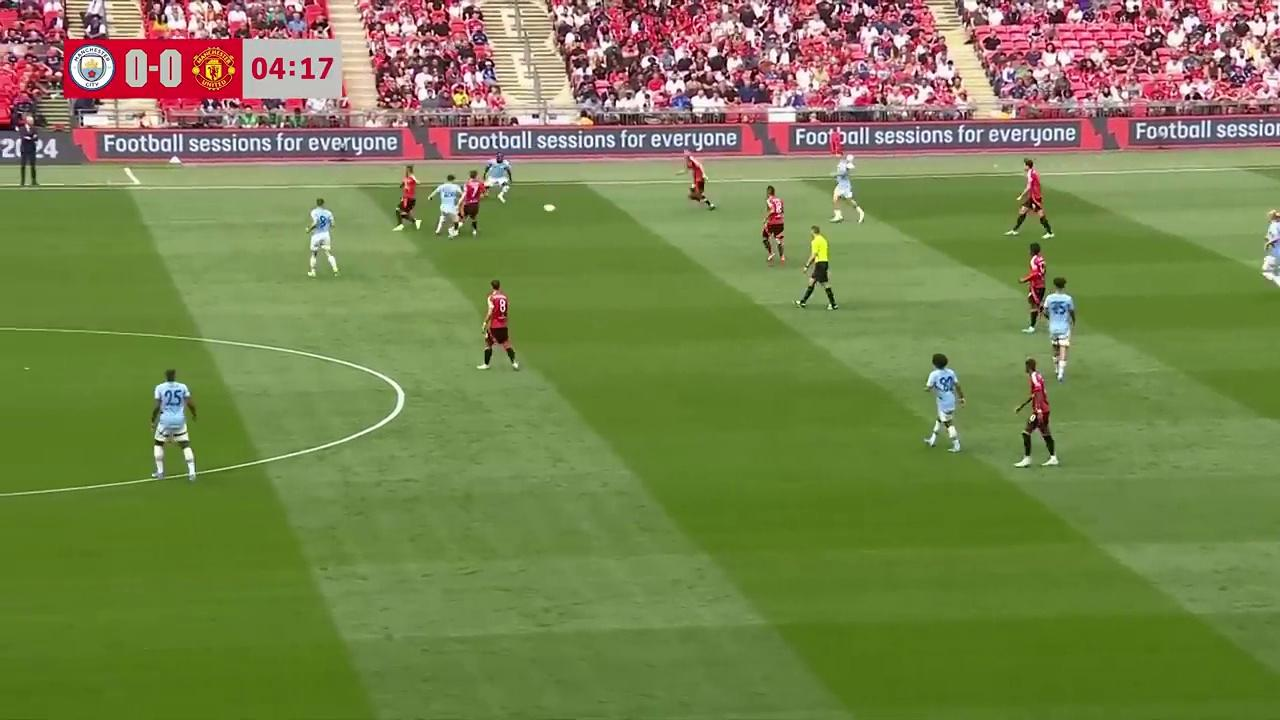ball: (541, 199, 557, 214)
player: (151, 368, 198, 481), (1013, 356, 1059, 468), (923, 353, 965, 452), (478, 279, 520, 370), (1007, 159, 1053, 237), (1046, 276, 1077, 382), (1019, 243, 1048, 332), (306, 197, 338, 277), (449, 171, 486, 238), (830, 152, 864, 224), (428, 172, 462, 236), (761, 186, 785, 265), (394, 168, 420, 231), (683, 155, 713, 209), (1261, 208, 1280, 287), (486, 154, 512, 203)
referee: (795, 226, 838, 311)
